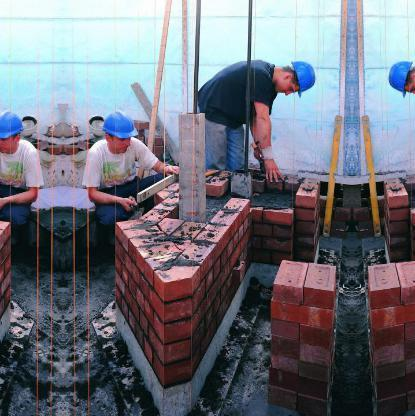helmet: (97, 106, 142, 147), (291, 54, 320, 99)
